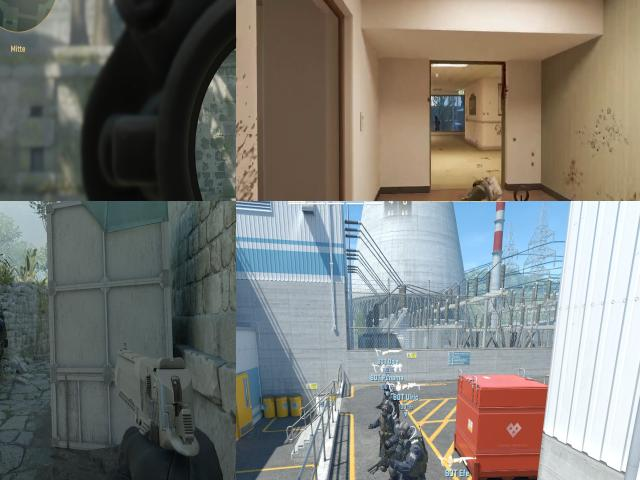CT: (400, 422, 427, 480), (382, 405, 399, 480), (380, 381, 399, 415)
CT-Head: (0, 298, 9, 406), (397, 423, 411, 444), (381, 402, 393, 417), (385, 384, 393, 395)
Dead: (443, 159, 511, 201)
